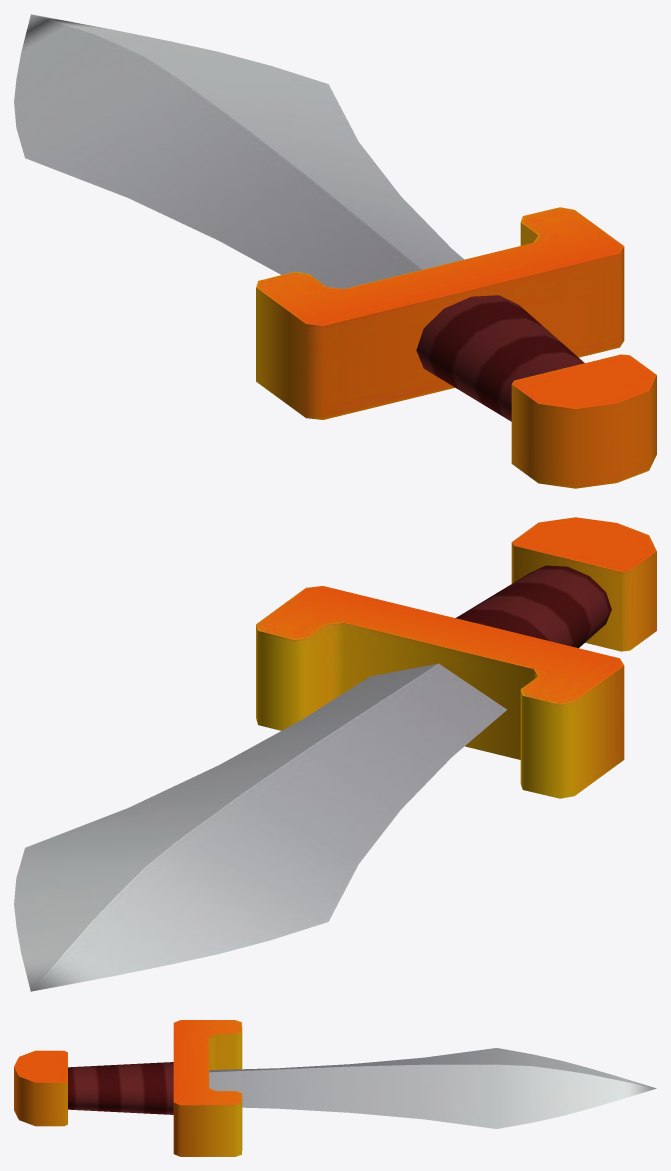
Rendered from sword.glb.
The picture shows the model from 3 angles, top to bottom: view 1: azimuth 30°, elevation 25°; view 2: azimuth 150°, elevation 25°; view 3: azimuth 270°, elevation 25°; orthographic projection. The views are drawn at different scales.
Size of the model in its own units: 0.3138 by 0.0886 by 1.
1 material, 1 textured.
